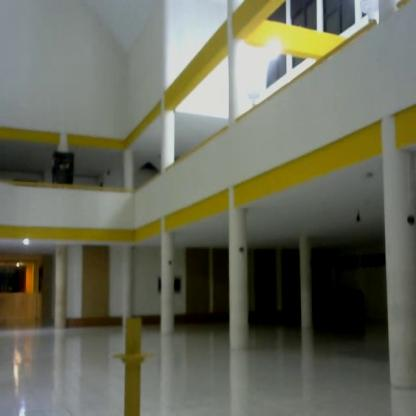pole: (107, 306, 157, 416)
